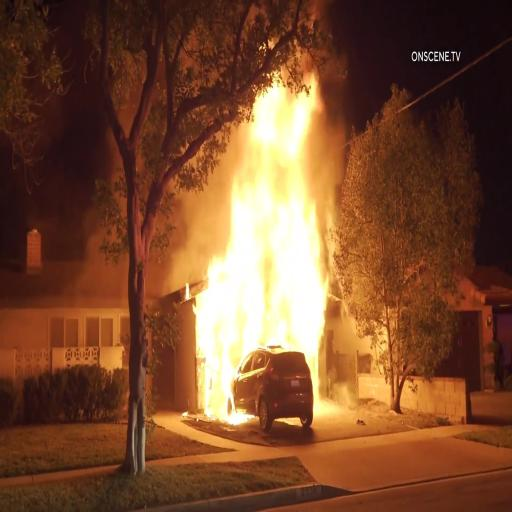fire: (236, 61, 316, 348), (196, 255, 232, 416)
smoke: (157, 158, 220, 244), (321, 50, 344, 153)
